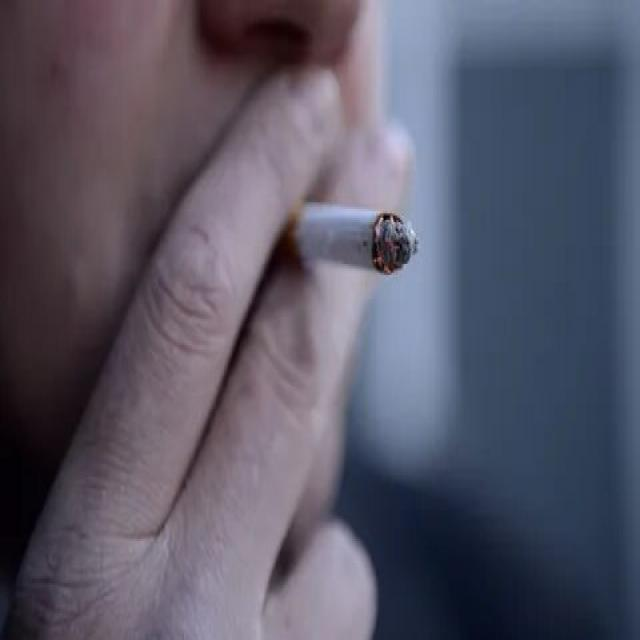smoke: (276, 187, 424, 279)
